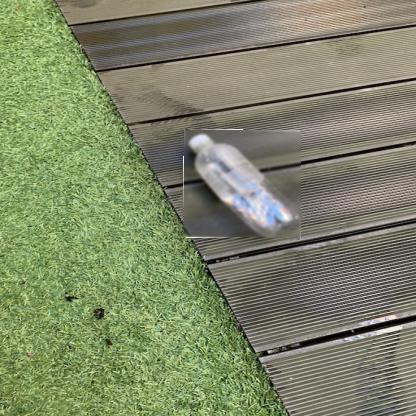plastic-bottles: (185, 131, 303, 239)
